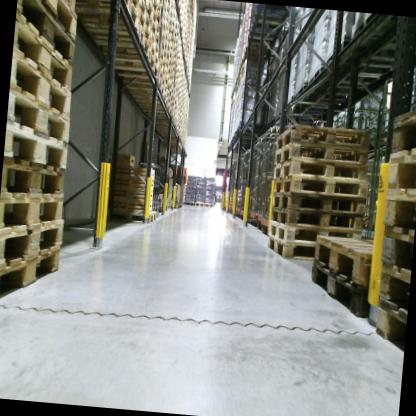pallet: (274, 120, 376, 165), (0, 245, 62, 317), (0, 216, 67, 278), (10, 25, 74, 89), (14, 0, 79, 62), (310, 231, 377, 291), (9, 85, 76, 142), (0, 191, 63, 250), (12, 52, 73, 112), (269, 185, 368, 221), (262, 218, 360, 254), (306, 267, 374, 317), (6, 124, 74, 174), (266, 199, 362, 234), (274, 150, 368, 185), (273, 143, 375, 174), (83, 17, 153, 60), (270, 170, 367, 198), (1, 167, 63, 210), (66, 0, 139, 36), (17, 0, 80, 37), (94, 44, 160, 79), (377, 262, 411, 320), (381, 186, 416, 240), (371, 303, 407, 352), (264, 235, 319, 265), (386, 144, 416, 196), (380, 229, 414, 272), (390, 107, 416, 159), (103, 207, 158, 227), (121, 72, 165, 96), (129, 99, 173, 119), (133, 2, 155, 41), (124, 88, 169, 106), (135, 0, 155, 28), (148, 19, 165, 50), (142, 111, 175, 126), (144, 119, 178, 130), (148, 28, 162, 51), (147, 41, 160, 63), (161, 2, 172, 27), (150, 128, 180, 137), (151, 0, 162, 24), (159, 27, 171, 49), (48, 0, 80, 8), (156, 65, 168, 86), (139, 0, 153, 17), (160, 17, 170, 40), (162, 11, 172, 34), (159, 57, 169, 77), (153, 0, 164, 17), (164, 73, 173, 93), (160, 38, 169, 58), (168, 0, 178, 18), (164, 51, 174, 68), (163, 85, 172, 103), (162, 0, 172, 15), (166, 68, 175, 84), (159, 48, 166, 67), (170, 12, 177, 30), (193, 199, 206, 208), (170, 64, 176, 80), (167, 47, 174, 60), (167, 41, 174, 54), (172, 203, 181, 212), (167, 96, 173, 108), (168, 30, 174, 42), (205, 202, 216, 208), (171, 59, 176, 72), (171, 22, 176, 35), (185, 201, 195, 207), (171, 0, 177, 10)
